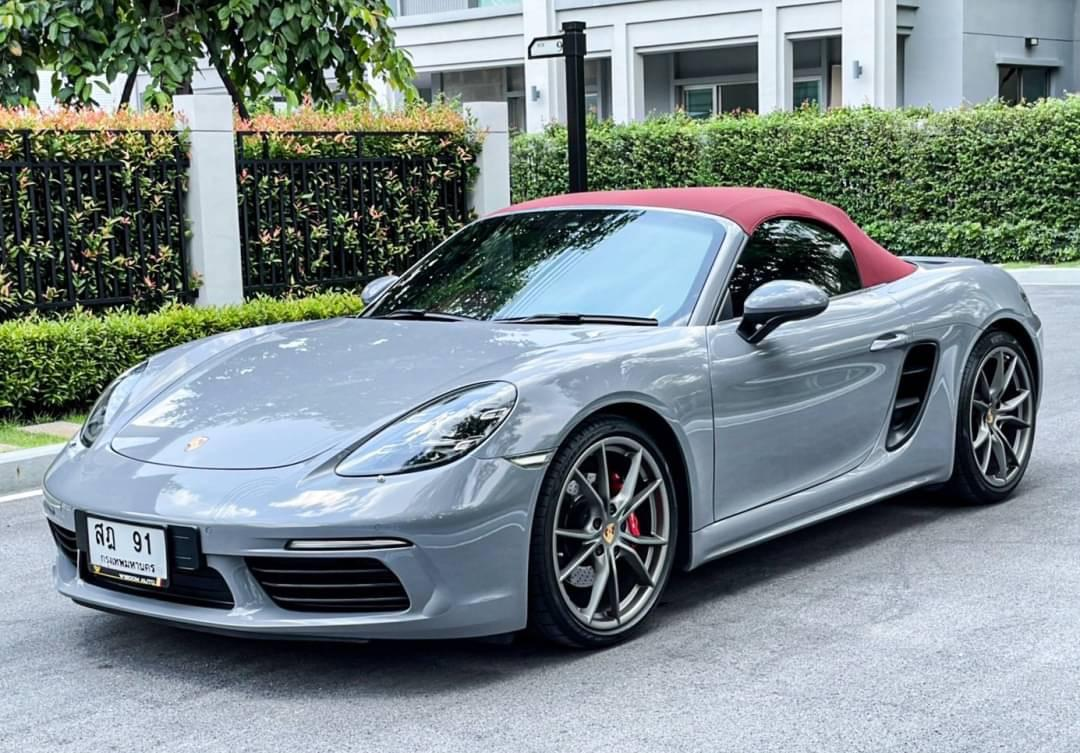license-plate: (79, 507, 176, 591)
